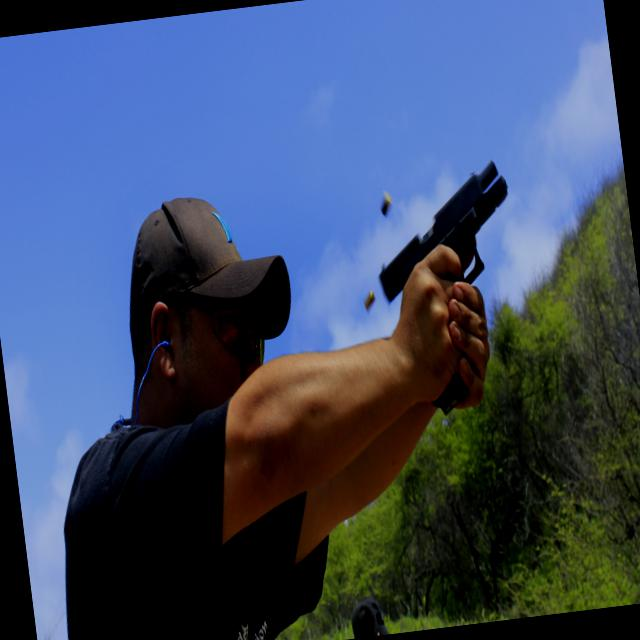handgun: (356, 134, 544, 398)
